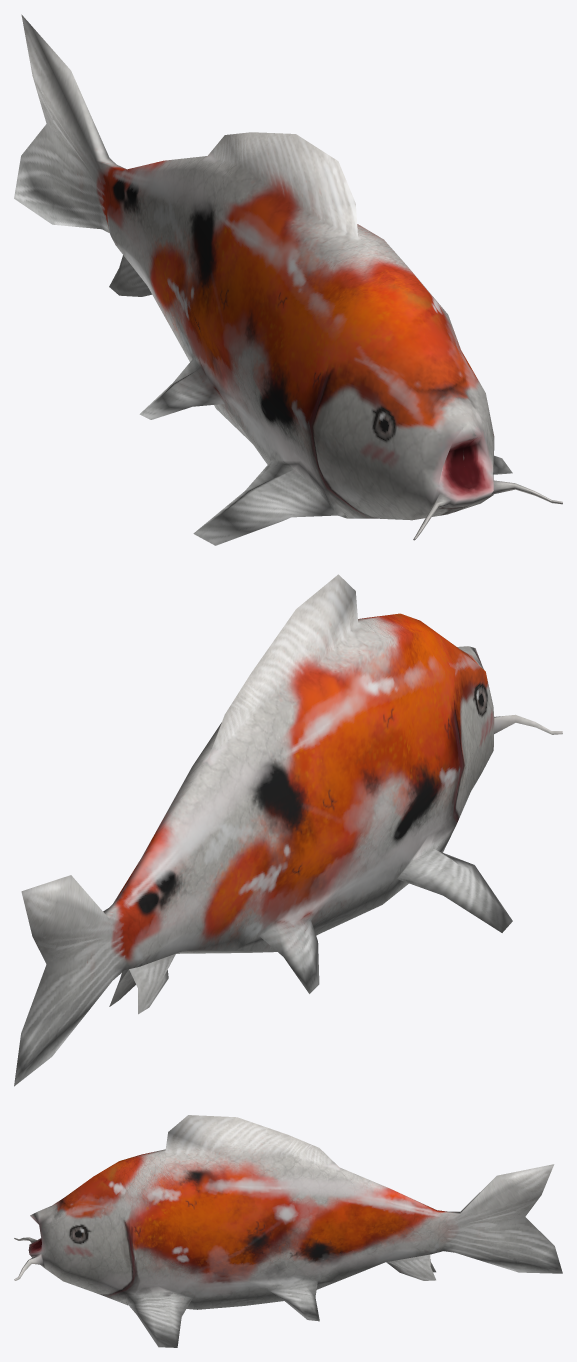
File: fish_koi.fbx
3 renders of one model, top to bottom at view 1: azimuth 30°, elevation 25°; view 2: azimuth 150°, elevation 25°; view 3: azimuth 270°, elevation 25°, orthographic. The views are drawn at different scales.
Parts seen in each view (by area): view 1: fish_koi; view 2: fish_koi; view 3: fish_koi.
Boxes of the visible parts, <box> form: fish_koi: <box>14,14,562,545</box>; fish_koi: <box>14,574,562,1086</box>; fish_koi: <box>14,1115,562,1347</box>.
Size of the model in its own units: 0.7041 by 0.7182 by 1.88.
